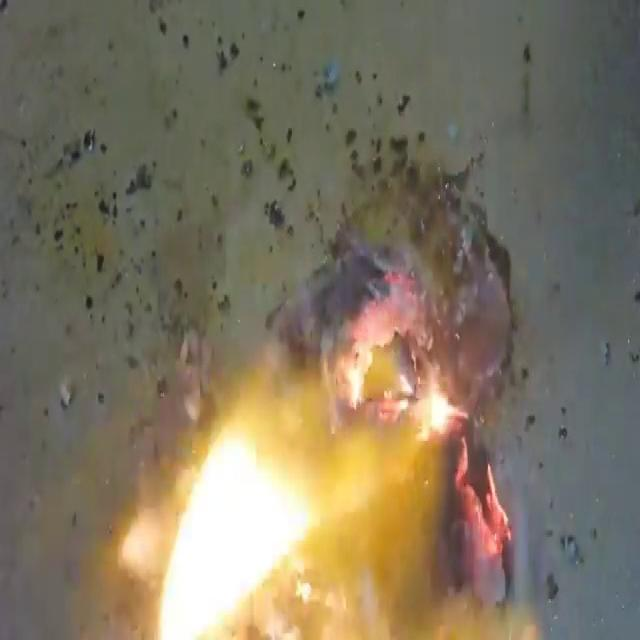Fire: (106, 157, 554, 630)
